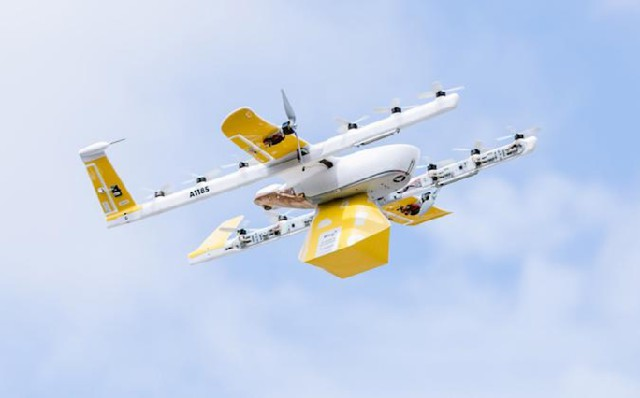maybay_khongnguoilai: (76, 88, 534, 281)
